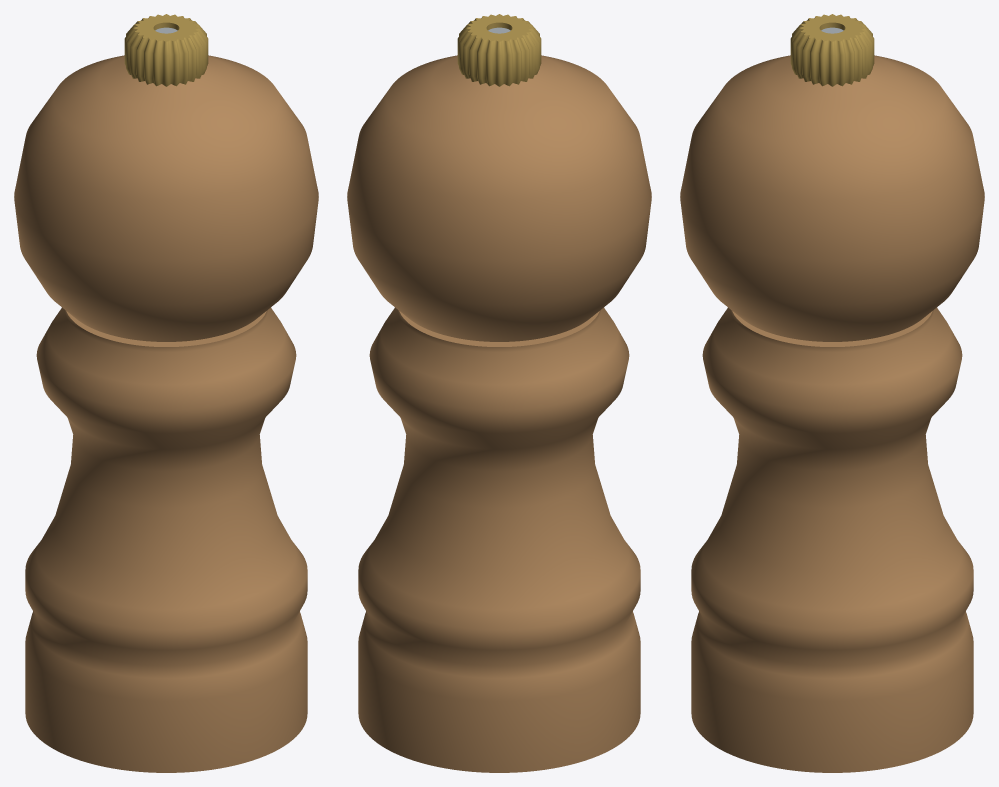
3 views of the same model, side by side, from view 1: azimuth 30°, elevation 25°; view 2: azimuth 150°, elevation 25°; view 3: azimuth 270°, elevation 25° (orthographic).
Parts seen in each view (by area): view 1: Hollow turned mill body, Rotating upper grinding knob, Knurled top adjustment nut; view 2: Hollow turned mill body, Rotating upper grinding knob, Knurled top adjustment nut; view 3: Hollow turned mill body, Rotating upper grinding knob, Knurled top adjustment nut.
Part boxes in pixels (x1,y1,x2,y2): Hollow turned mill body: (25,307,307,772); Rotating upper grinding knob: (14,55,318,341); Knurled top adjustment nut: (124,14,208,86); Hollow turned mill body: (358,307,640,772); Rotating upper grinding knob: (347,55,651,341); Knurled top adjustment nut: (457,14,541,86); Hollow turned mill body: (691,307,973,772); Rotating upper grinding knob: (680,55,984,341); Knurled top adjustment nut: (790,14,874,86).
Size of the model in its own units: 0.054 by 0.134 by 0.054.
